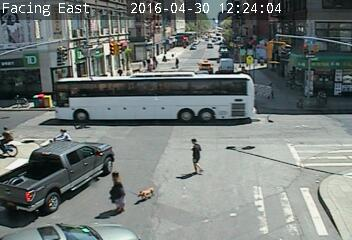neg: (262, 69, 289, 105), (1, 121, 26, 156), (93, 77, 118, 110), (231, 136, 256, 169), (189, 53, 213, 85), (135, 105, 158, 134), (142, 52, 164, 82), (42, 22, 64, 51), (141, 179, 162, 208), (298, 57, 318, 84), (46, 154, 65, 178), (269, 188, 287, 212), (285, 126, 303, 149), (18, 90, 35, 113), (206, 203, 223, 225), (49, 89, 65, 111)
pos: (96, 167, 133, 216), (178, 134, 212, 180)
